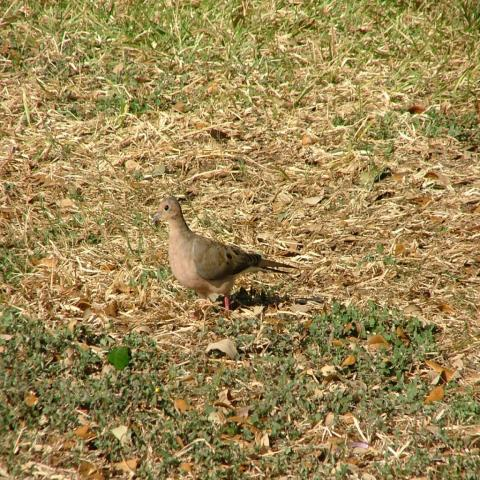bird: (150, 194, 296, 314)
